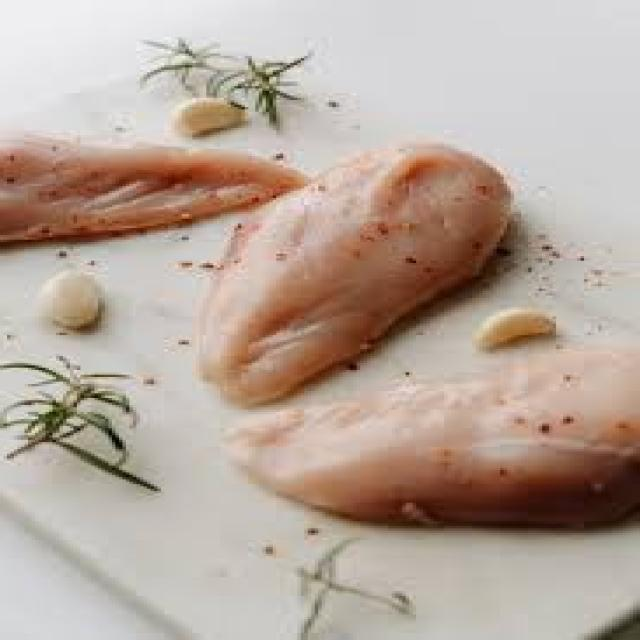Chicken: (170, 133, 540, 409), (195, 327, 640, 537), (0, 121, 300, 254)
Garlic: (450, 294, 575, 354), (36, 262, 116, 338), (168, 90, 255, 143)
Rosemary: (115, 30, 335, 143), (0, 346, 158, 497), (283, 533, 418, 640)
